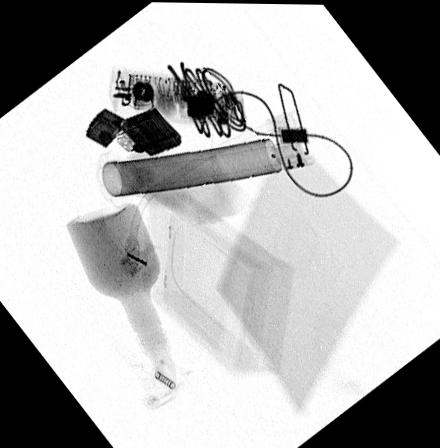Lighter: (85, 104, 182, 155)
